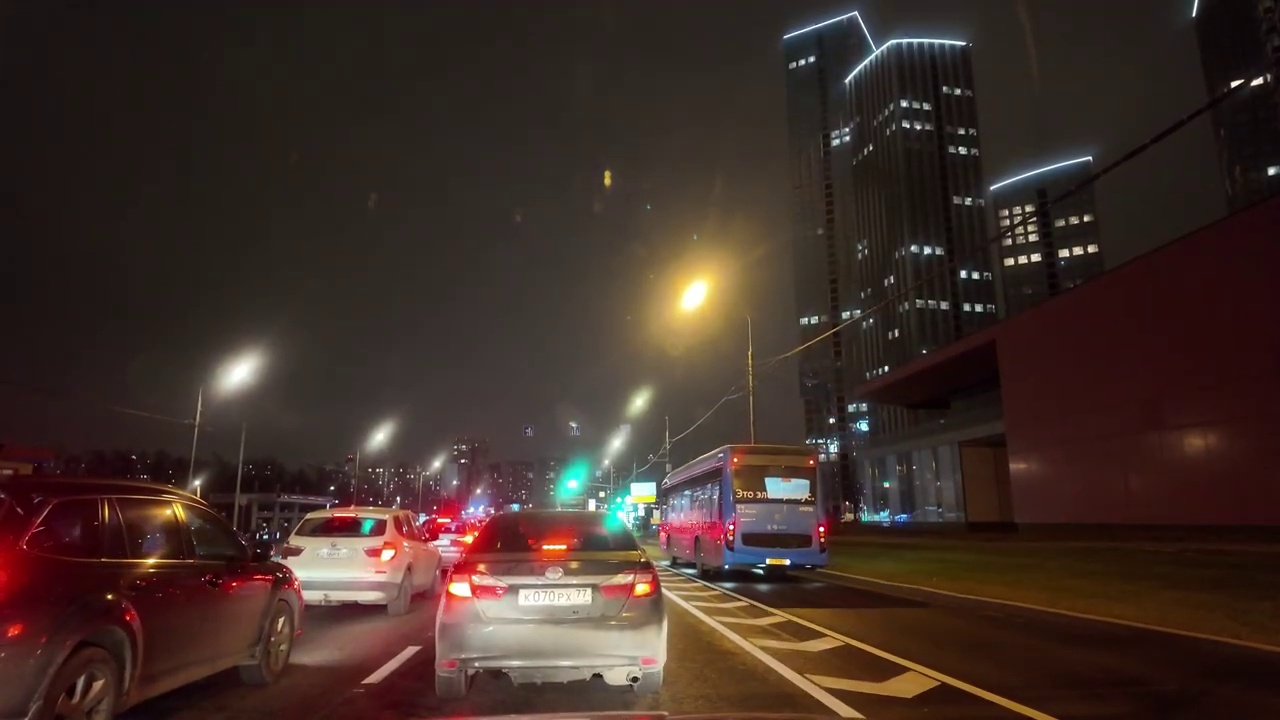acesa: (668, 266, 725, 328), (212, 347, 265, 400), (361, 416, 398, 457), (618, 386, 654, 421)
